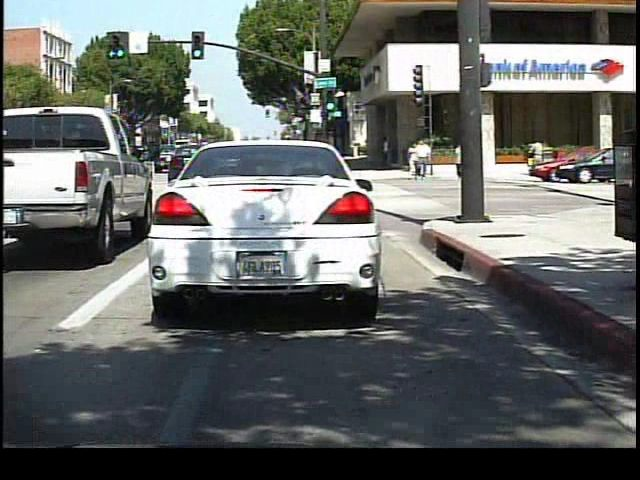person: (525, 135, 547, 176), (449, 136, 468, 181), (414, 136, 432, 181)
